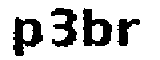3: (47, 5, 78, 49)
b: (84, 6, 112, 50)
p: (11, 14, 43, 59)
r: (115, 16, 139, 47)
